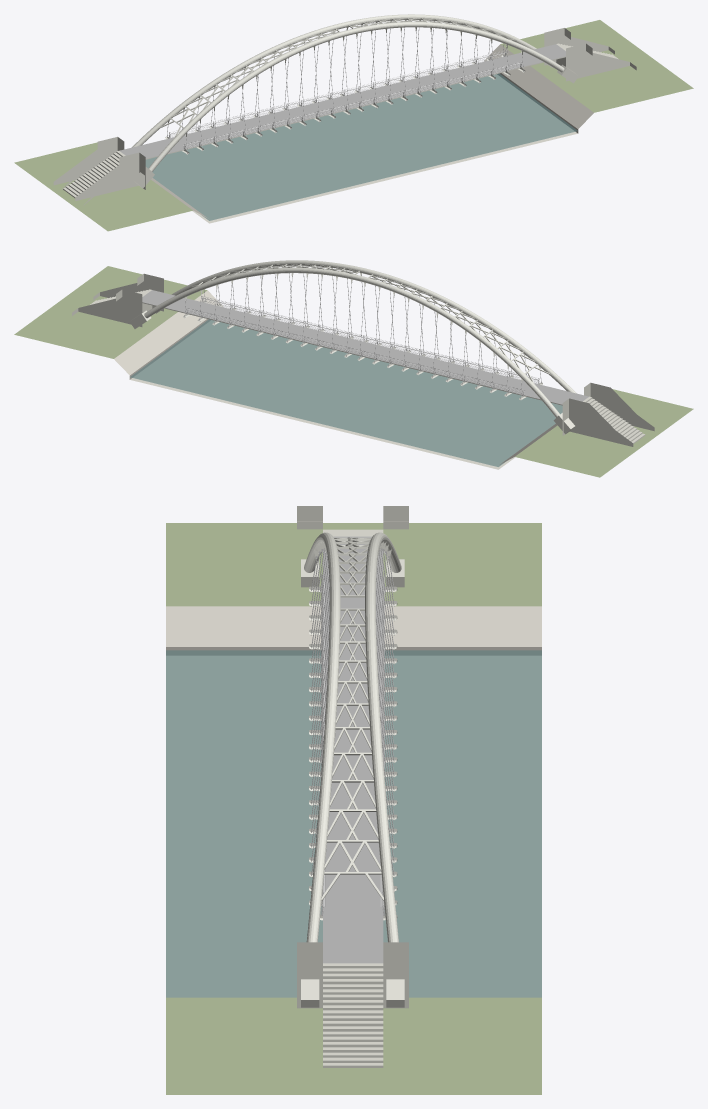
Rendered from suspension_bridge.glb.
3 renders of one model, top to bottom at view 1: azimuth 30°, elevation 25°; view 2: azimuth 150°, elevation 25°; view 3: azimuth 270°, elevation 25°, orthographic. The views are drawn at different scales.
Parts seen in each view (by area): view 1: suspension_bridge_layer2, suspension_bridge_layer1; view 2: suspension_bridge_layer2, suspension_bridge_layer1; view 3: suspension_bridge_layer2, suspension_bridge_layer1.
Part boxes in pixels (bbox=[...]): suspension_bridge_layer2: bbox=[14, 20, 693, 231]; suspension_bridge_layer1: bbox=[53, 14, 636, 205]; suspension_bridge_layer2: bbox=[14, 266, 693, 477]; suspension_bridge_layer1: bbox=[72, 260, 654, 446]; suspension_bridge_layer2: bbox=[166, 523, 541, 1094]; suspension_bridge_layer1: bbox=[297, 506, 408, 1067].
Size of the model in its own units: 146 by 28.17 by 40.6.
